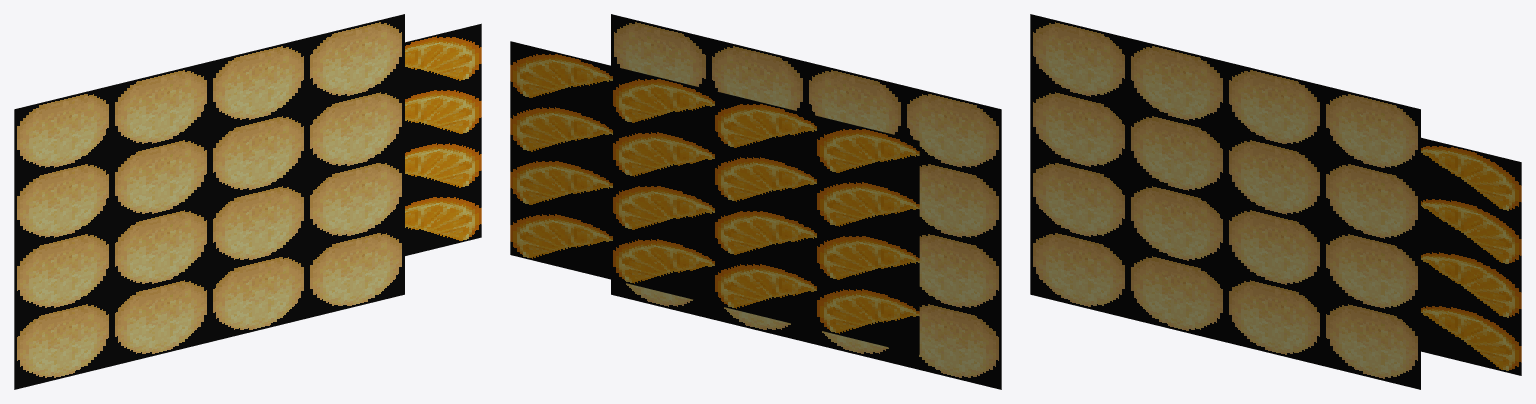
File: 1181item3542.gltf
3 renders of one model, left to right at view 1: azimuth 30°, elevation 25°; view 2: azimuth 150°, elevation 25°; view 3: azimuth 330°, elevation 25°, orthographic.
Parts seen in each view (by area): view 1: 1181item3542; view 2: 1181item3542; view 3: 1181item3542.
Part boxes in pixels (x1=…): 1181item3542: x1=14, y1=14, x2=481, y2=389; 1181item3542: x1=510, y1=14, x2=1001, y2=389; 1181item3542: x1=1030, y1=14, x2=1521, y2=389.
Size of the model in its own units: 0.4531 by 0.2534 by 0.0195.
Materials: 3 (3 with a texture image).
